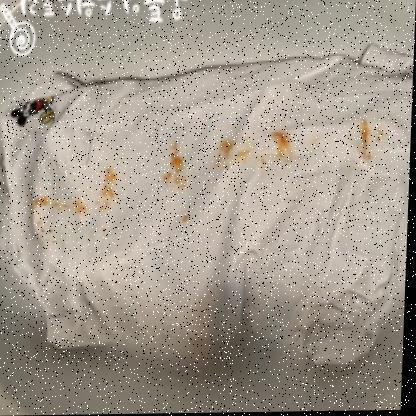kimchi: (29, 181, 118, 228), (210, 133, 304, 174), (157, 143, 194, 194), (357, 119, 388, 164), (96, 162, 124, 189), (174, 210, 193, 228)
